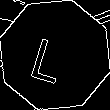L_N: (33, 26, 77, 84)
